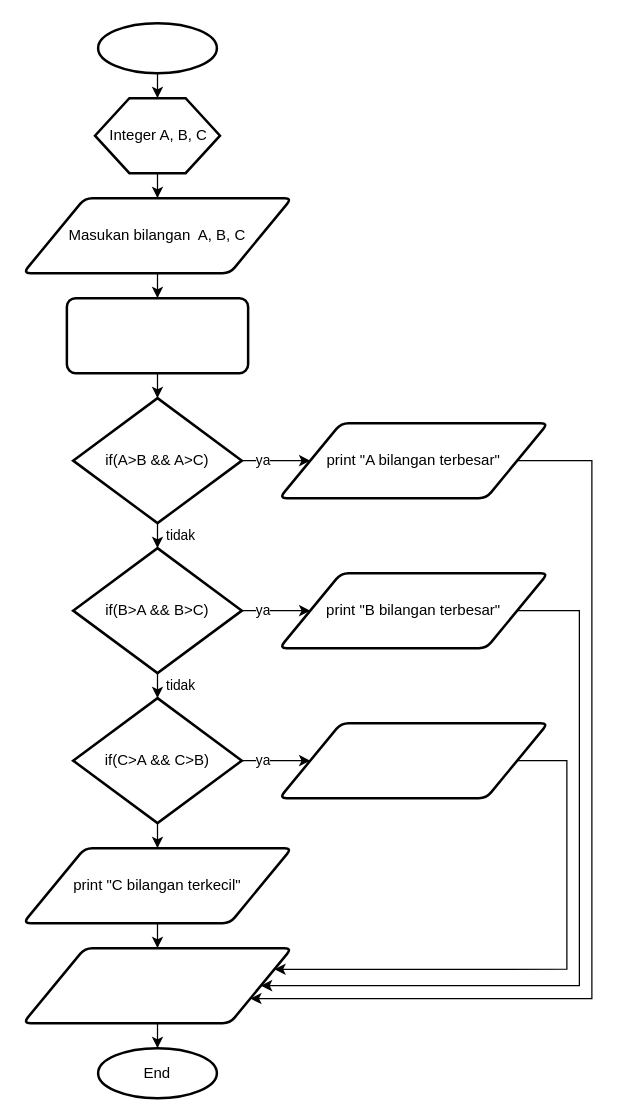
Some shapes in this 624 by 1120 pixel diagram are drawn without their labels. The shapes that lost their labels are listed below. From the top down, each one's box as (x1, y1, x2, y2) in pixels, then its label:
(96, 21, 218, 74): Start
(65, 296, 249, 374): rata = (A+B+C)/3
(278, 721, 549, 799): print "C bilangan terbesar"
(21, 946, 292, 1024): print rata
